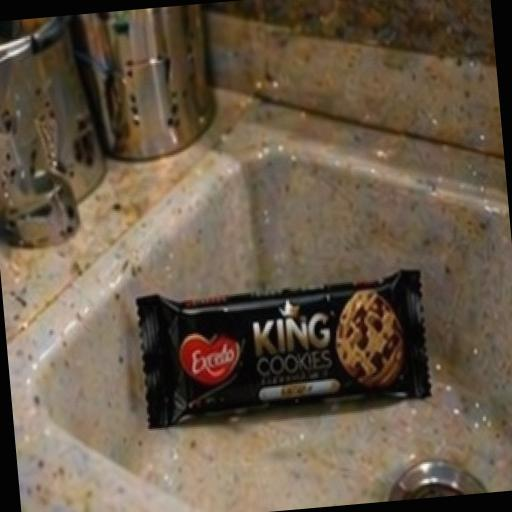king-cooking: (105, 200, 469, 460)
